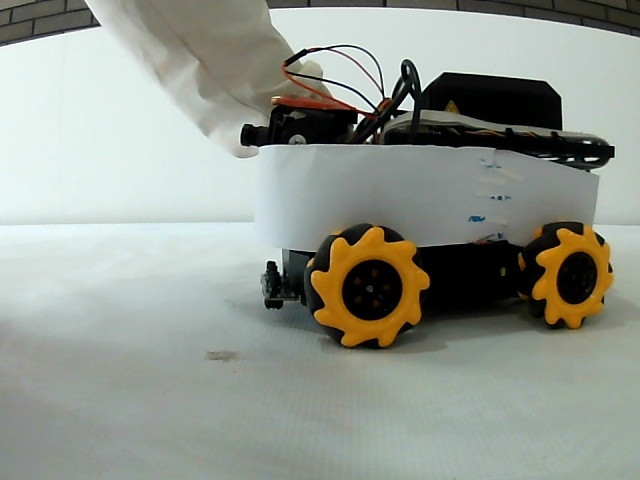car: (242, 61, 609, 345)
paper: (256, 149, 595, 219)
